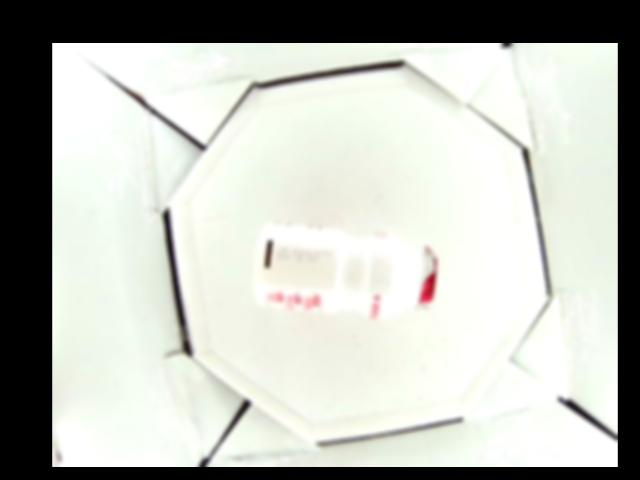Bottle: (251, 221, 439, 322)
